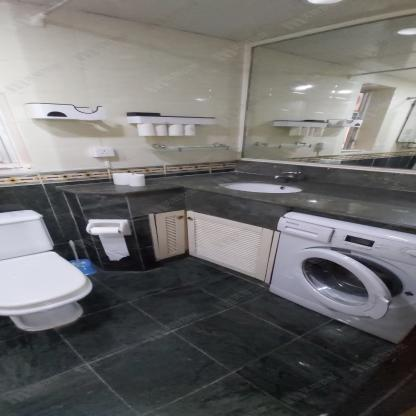Toilet: (0, 209, 98, 332)
Toilet Sink: (215, 182, 310, 198)
Washing Machine: (266, 211, 416, 344)
